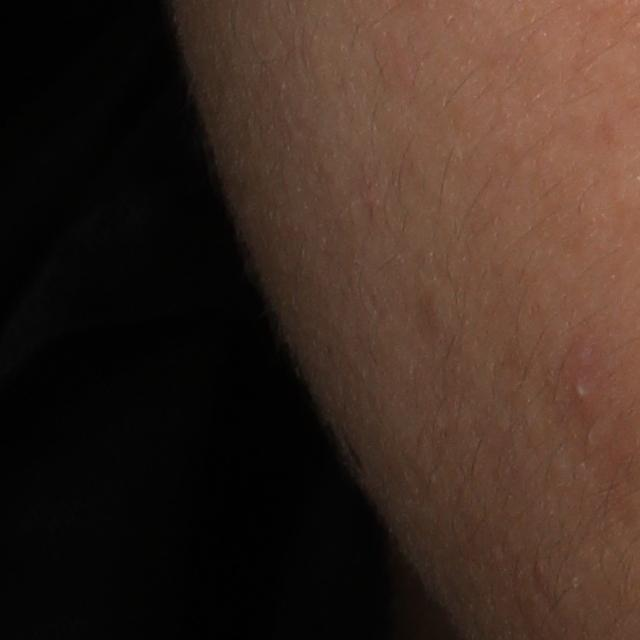pustule: (570, 376, 594, 406)
